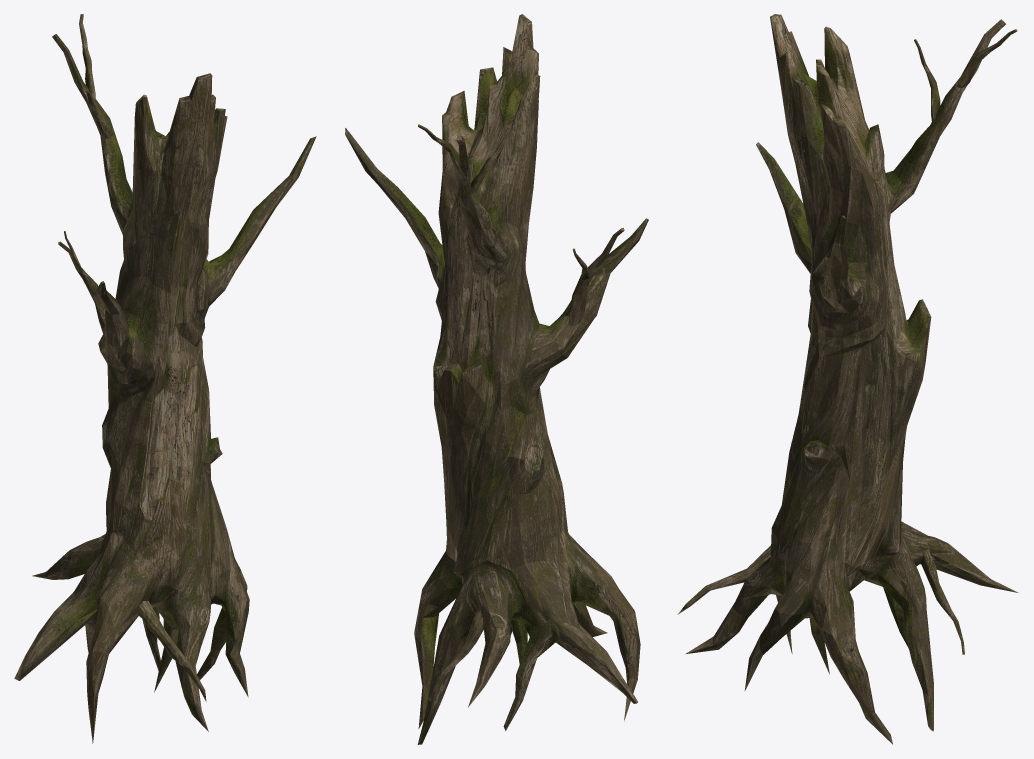
The model's file is bg_anh_tree_te_t44_sm_old.FBX.
The picture shows the model from 3 angles, left to right: view 1: azimuth 30°, elevation 25°; view 2: azimuth 150°, elevation 25°; view 3: azimuth 270°, elevation 25°; orthographic projection. The views are drawn at different scales.
Parts seen in each view (by area): view 1: bg_anh_tree_te_t44_sm_old; view 2: bg_anh_tree_te_t44_sm_old; view 3: bg_anh_tree_te_t44_sm_old.
Part boxes in pixels (bbox=[...]): bg_anh_tree_te_t44_sm_old: bbox=[14, 14, 316, 743]; bg_anh_tree_te_t44_sm_old: bbox=[345, 14, 648, 744]; bg_anh_tree_te_t44_sm_old: bbox=[677, 14, 1018, 744].
Bounding box in the file's own units: 278 × 601 × 264.
